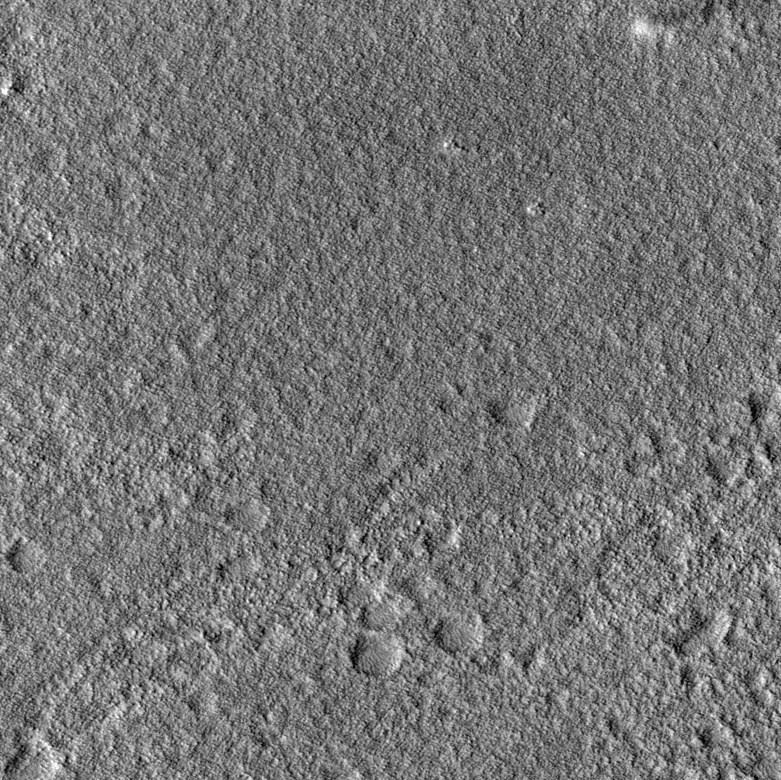dust_devil: (629, 1, 721, 45)
